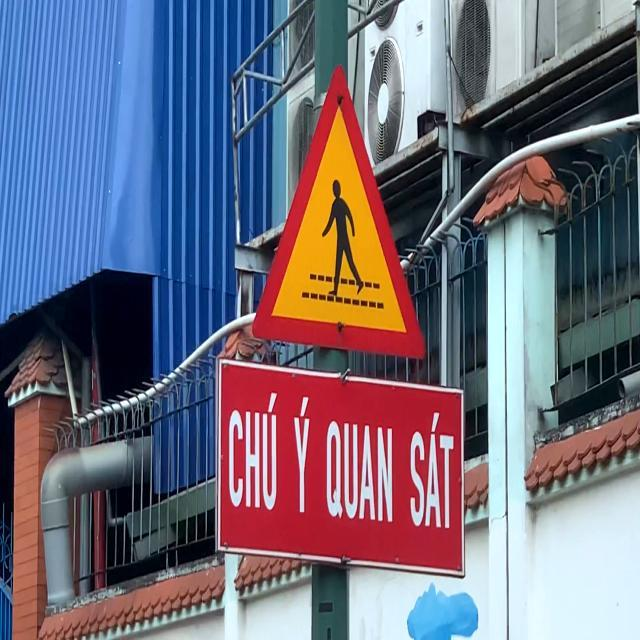W-224: (248, 65, 424, 368)
